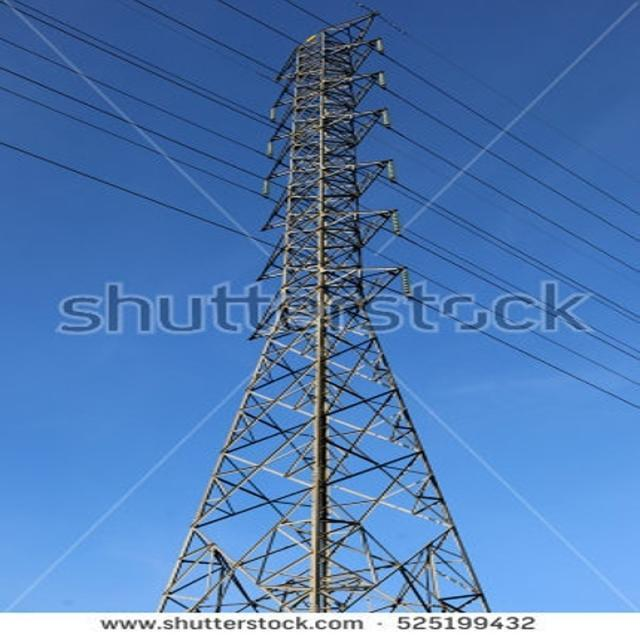non-critical vegetation: (180, 29, 496, 573)
